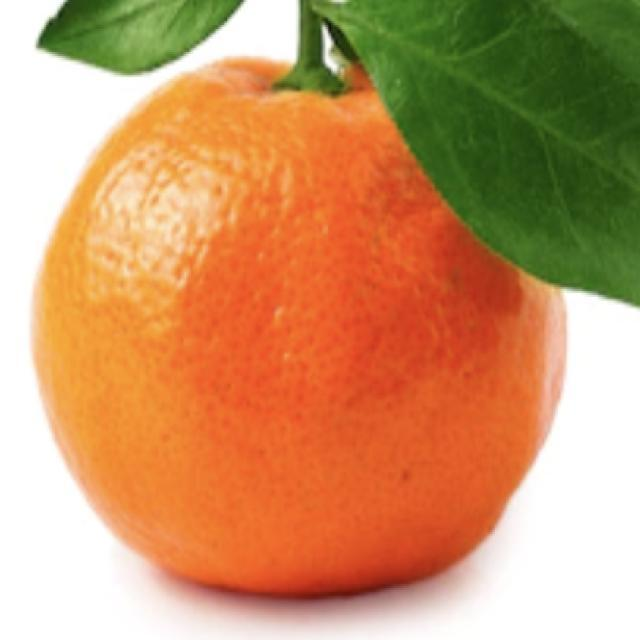Orange: (29, 54, 568, 599)
